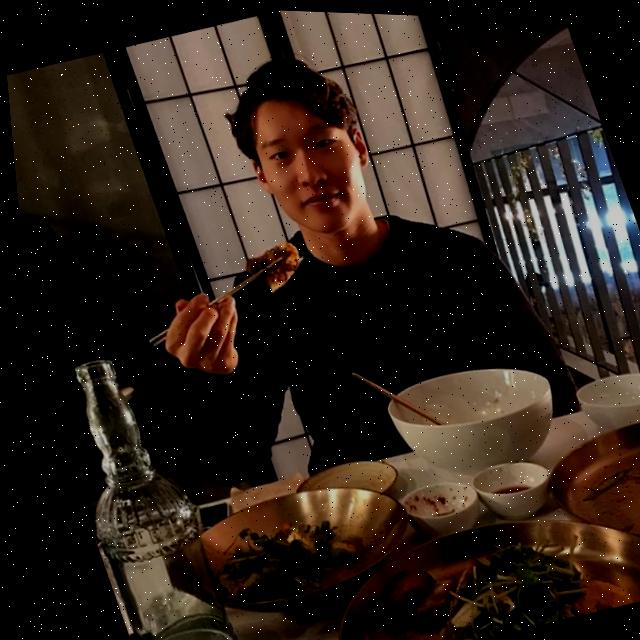eating-person: (46, 1, 609, 536)
